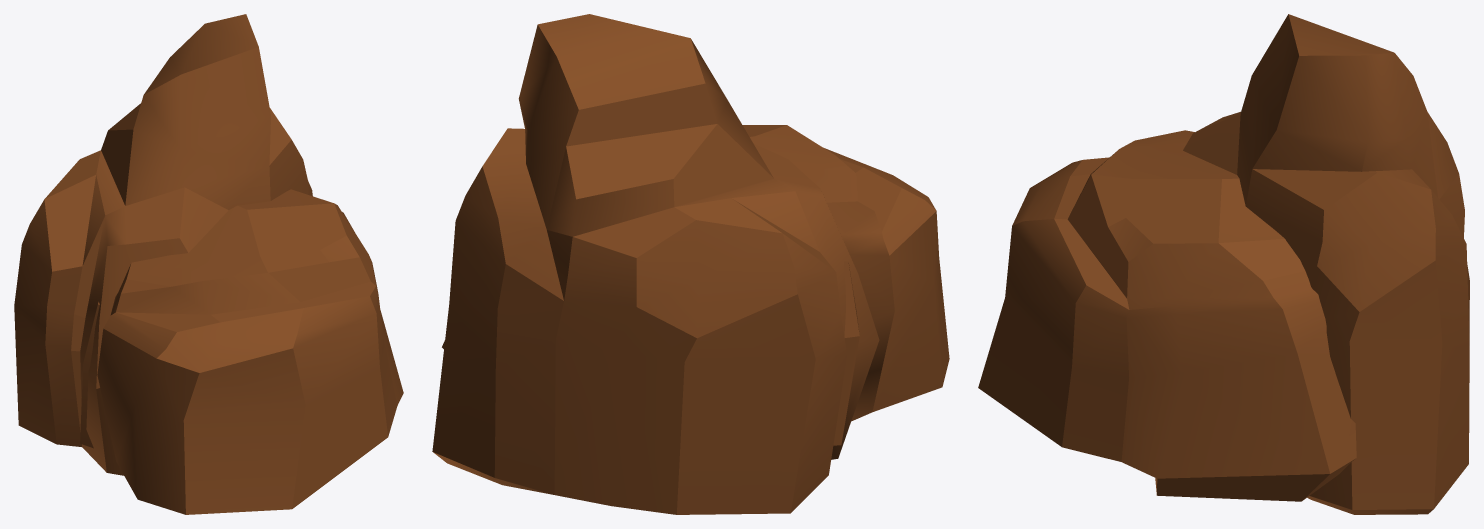
File: rock_lev2.glb
The picture shows the model from 3 angles, left to right: view 1: azimuth 30°, elevation 25°; view 2: azimuth 150°, elevation 25°; view 3: azimuth 270°, elevation 25°; orthographic projection. The views are drawn at different scales.
Visible parts, largest first — view 1: Rock_Large_2; view 2: Rock_Large_2; view 3: Rock_Large_2.
Boxes of the visible parts, bbox=[...] form: Rock_Large_2: bbox=[14, 14, 403, 514]; Rock_Large_2: bbox=[432, 14, 949, 514]; Rock_Large_2: bbox=[978, 14, 1469, 514].
Size of the model in its own units: 26.37 by 28.27 by 28.98.
1 material, 1 textured.
